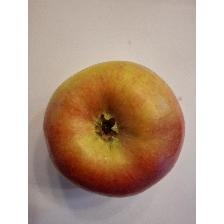Apfel: (39, 52, 189, 200)
